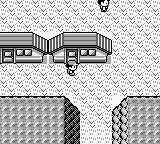main: (66, 61, 79, 75)
no-caminable: (1, 97, 79, 143), (1, 33, 111, 63), (113, 97, 159, 143)
npc: (98, 0, 110, 11)
puerta: (2, 50, 14, 63), (66, 50, 77, 63)
